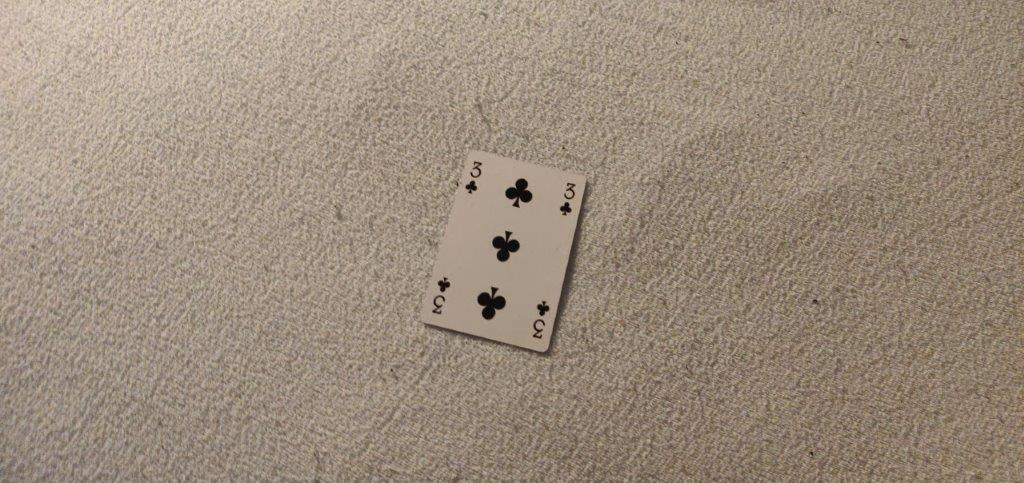3C: (462, 160, 484, 196), (557, 180, 578, 217)
